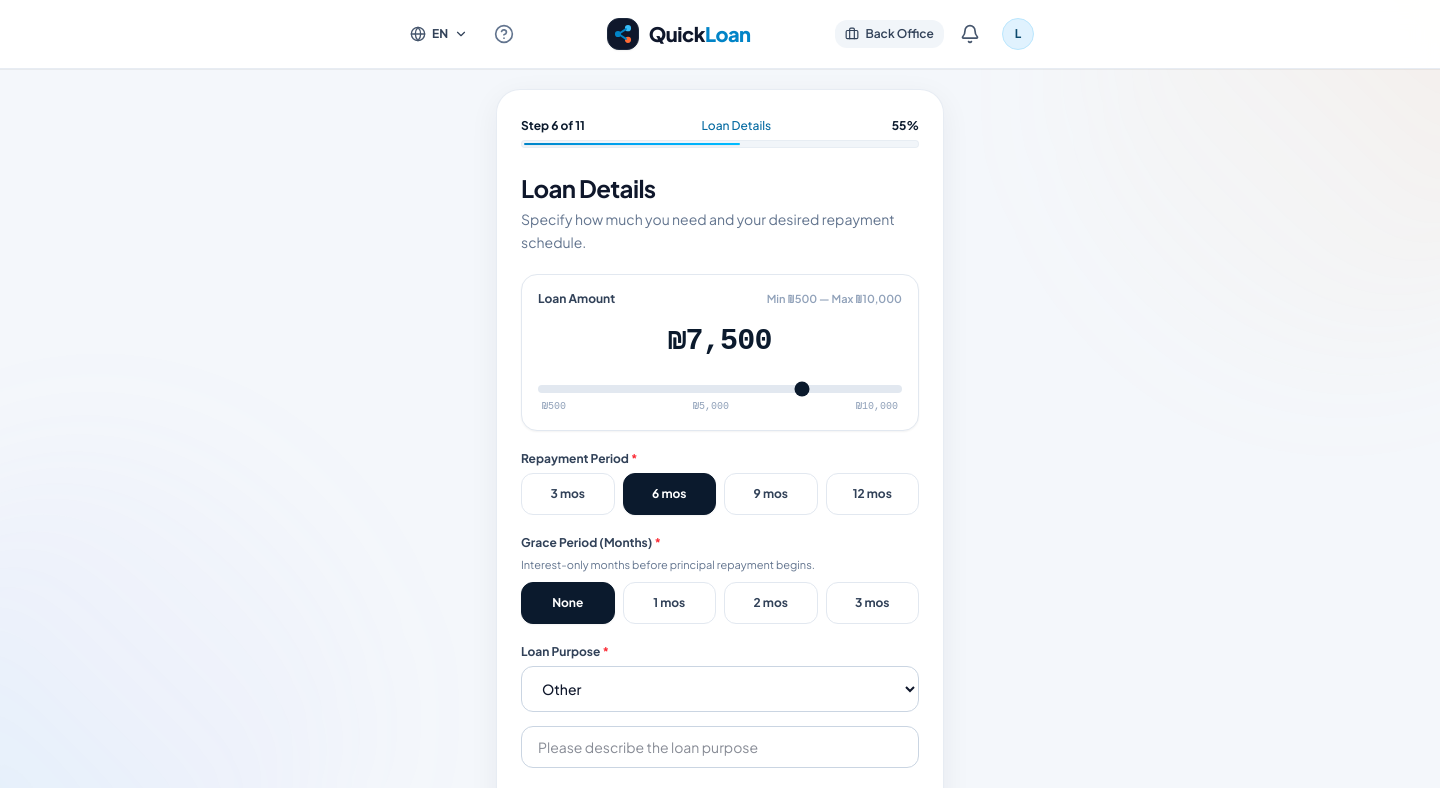
Test: Switching language mid-wizard (T1.4) › keeps the step and typed values, flips direction, and saves the choice to the account
Expected: the heading "Loan Details" is shown, [521, 173, 656, 203]
Type "Buy a laptop" into the field with placeholder "Please describe the loan purpose" at (720, 746), box [521, 726, 919, 768]
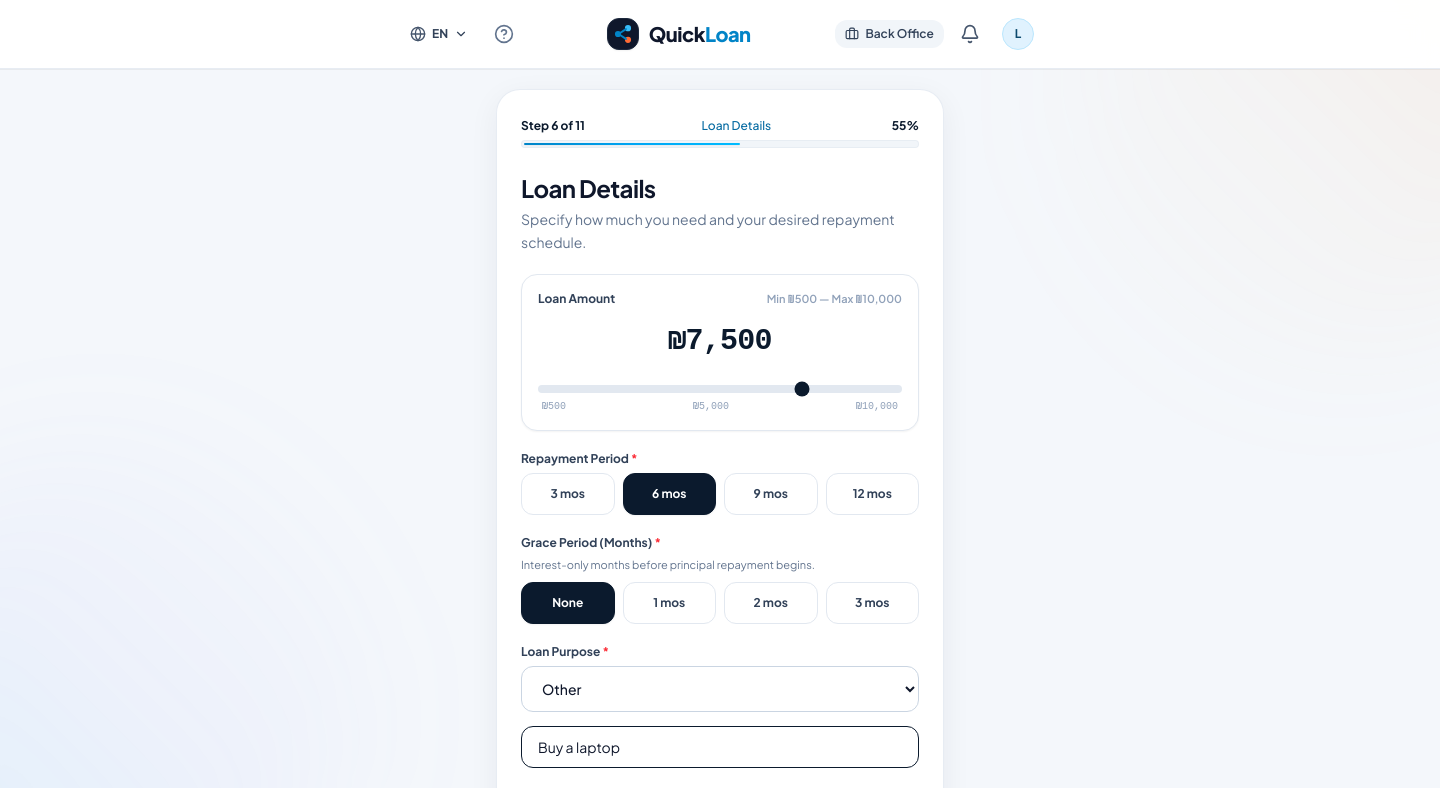
// Switch to Hebrew
Click the button with aria-label "Language selector" at (439, 34), box [400, 16, 478, 52]
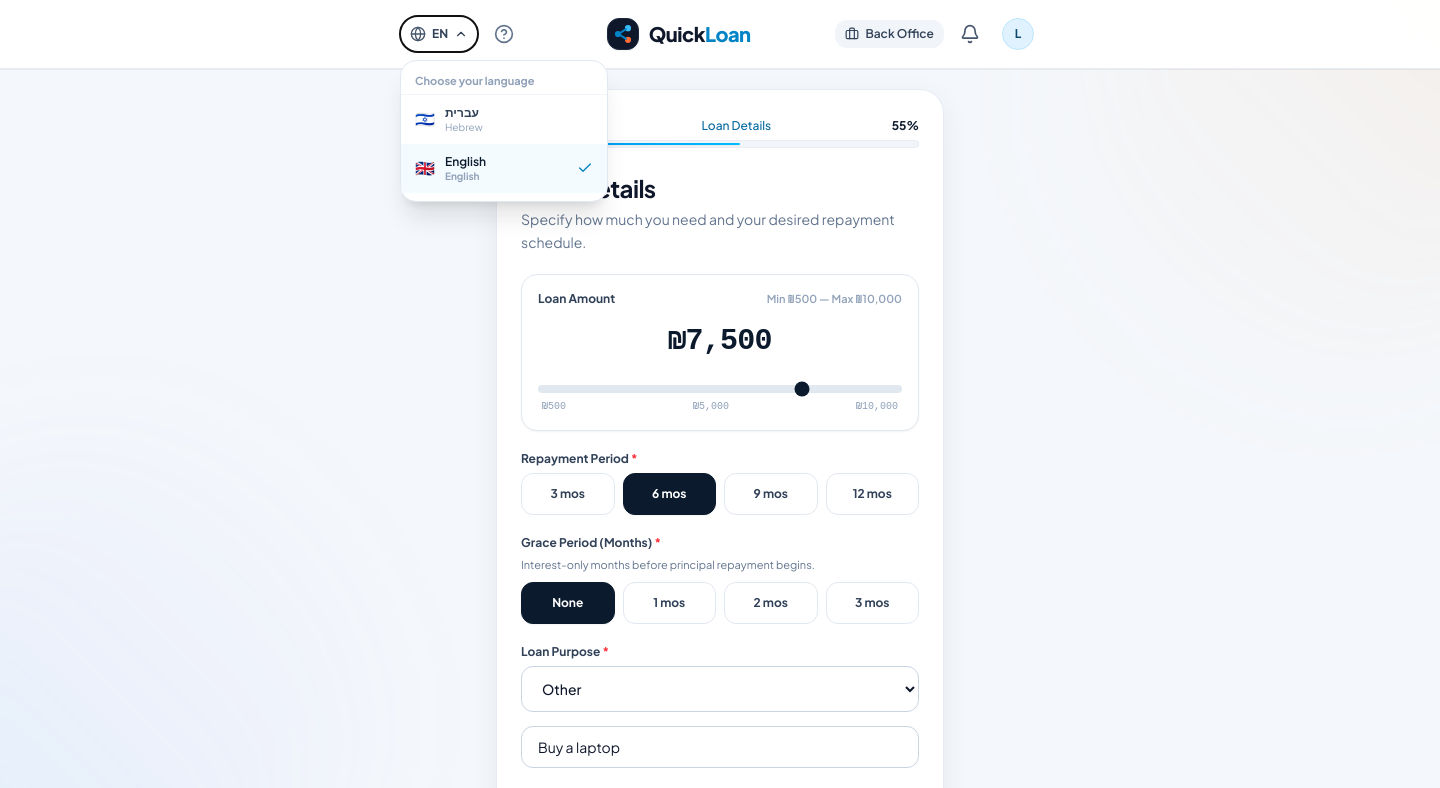
Click the menu item "🇮🇱 עברית Hebrew" at (504, 119), box [401, 94, 607, 144]
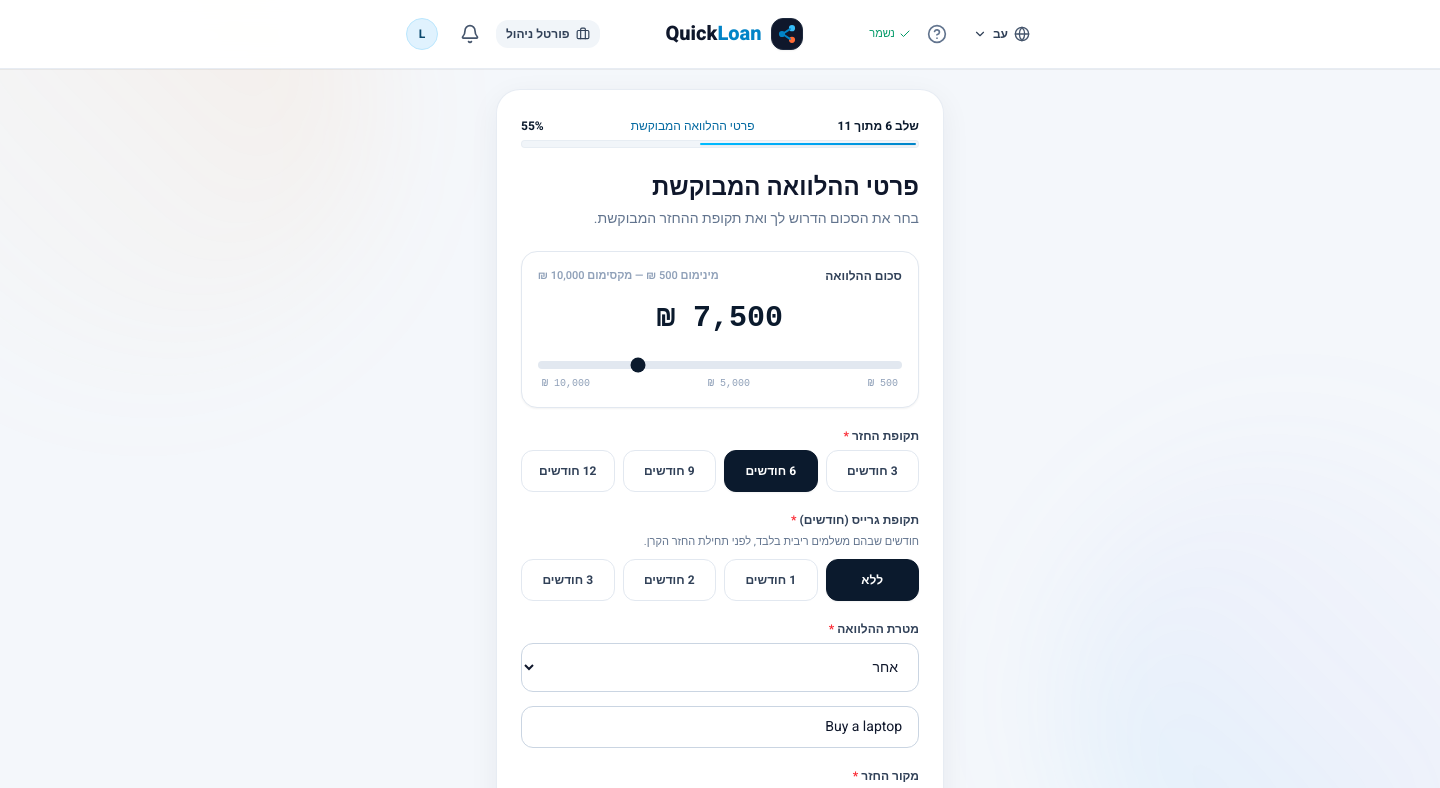
Expected: the heading "פרטי ההלוואה המבוקשת" is shown, [652, 170, 919, 205]
// And back to English
Click the button with aria-label "בחירת שפה" at (1001, 34), box [963, 16, 1040, 52]
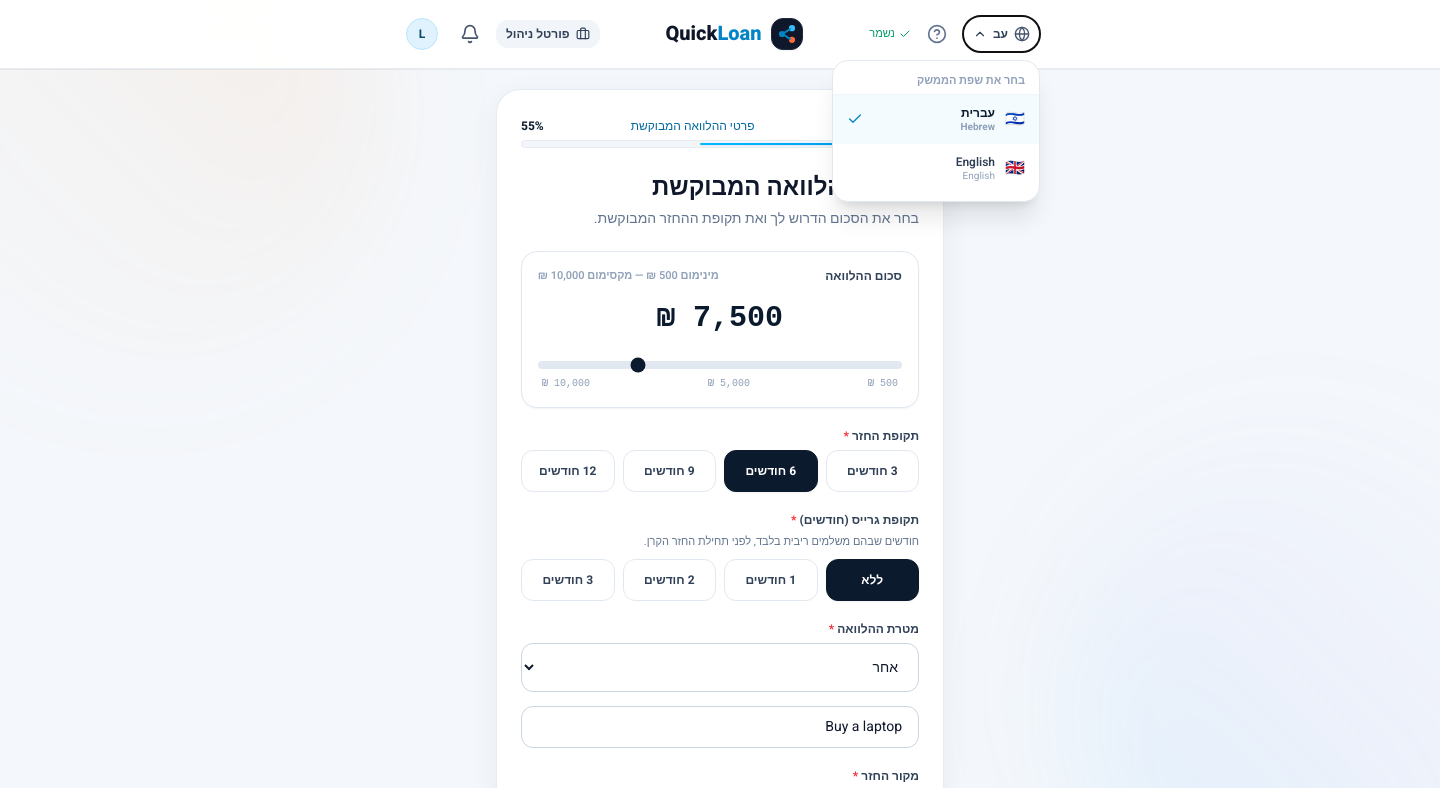
Click the menu item "🇬🇧 English English" at (936, 168), box [833, 144, 1039, 193]
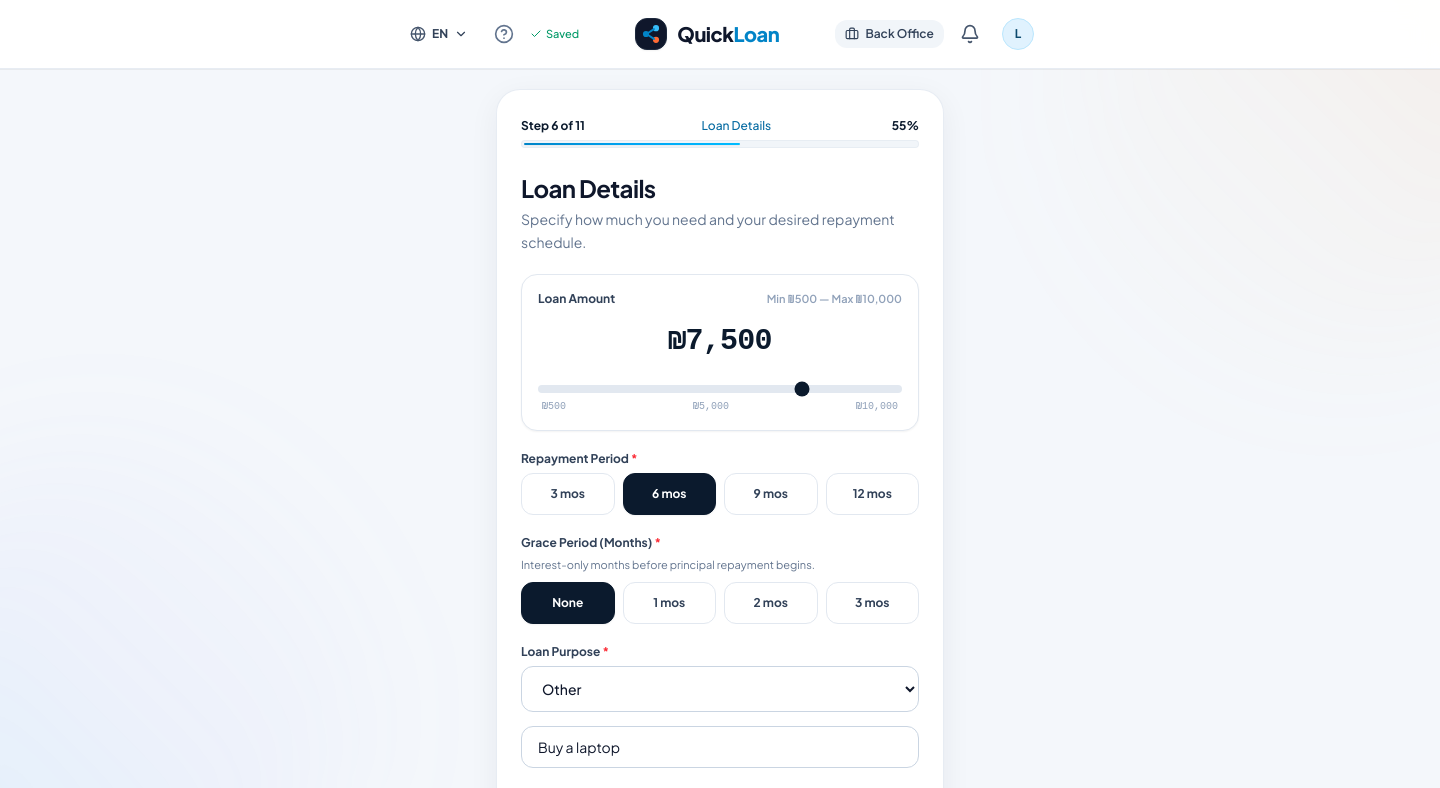
Expected: the heading "Loan Details" is shown, [521, 173, 656, 203]
